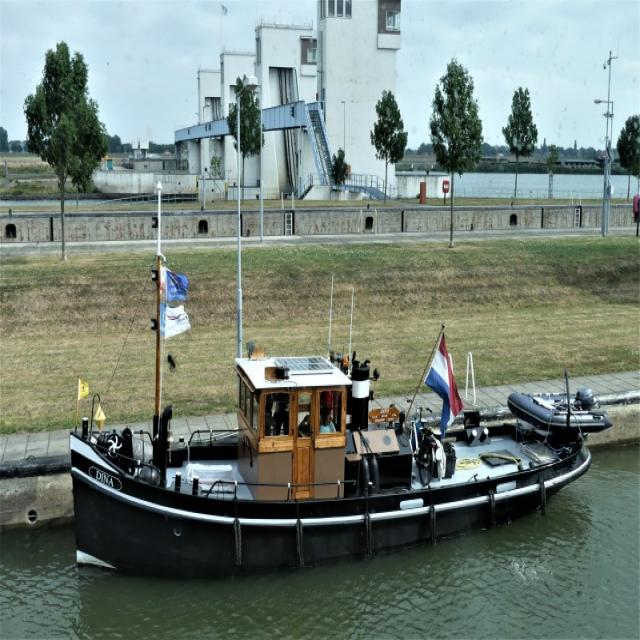tugboat: (67, 327, 620, 586)
